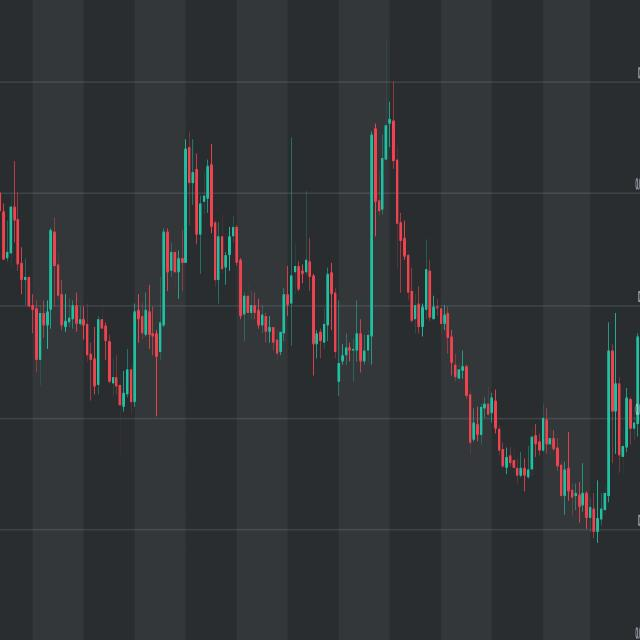Channel-down: (403, 219, 604, 633)
Double-Top: (178, 118, 221, 300)
